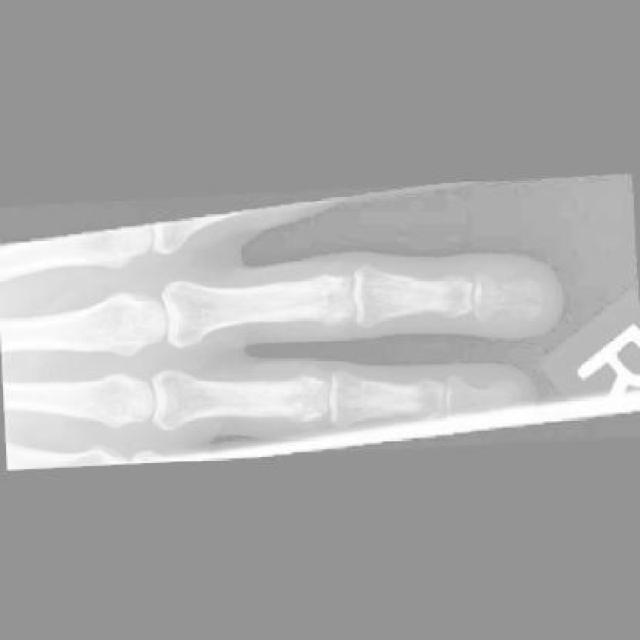Fracture: (497, 269, 548, 320), (482, 376, 522, 410)
